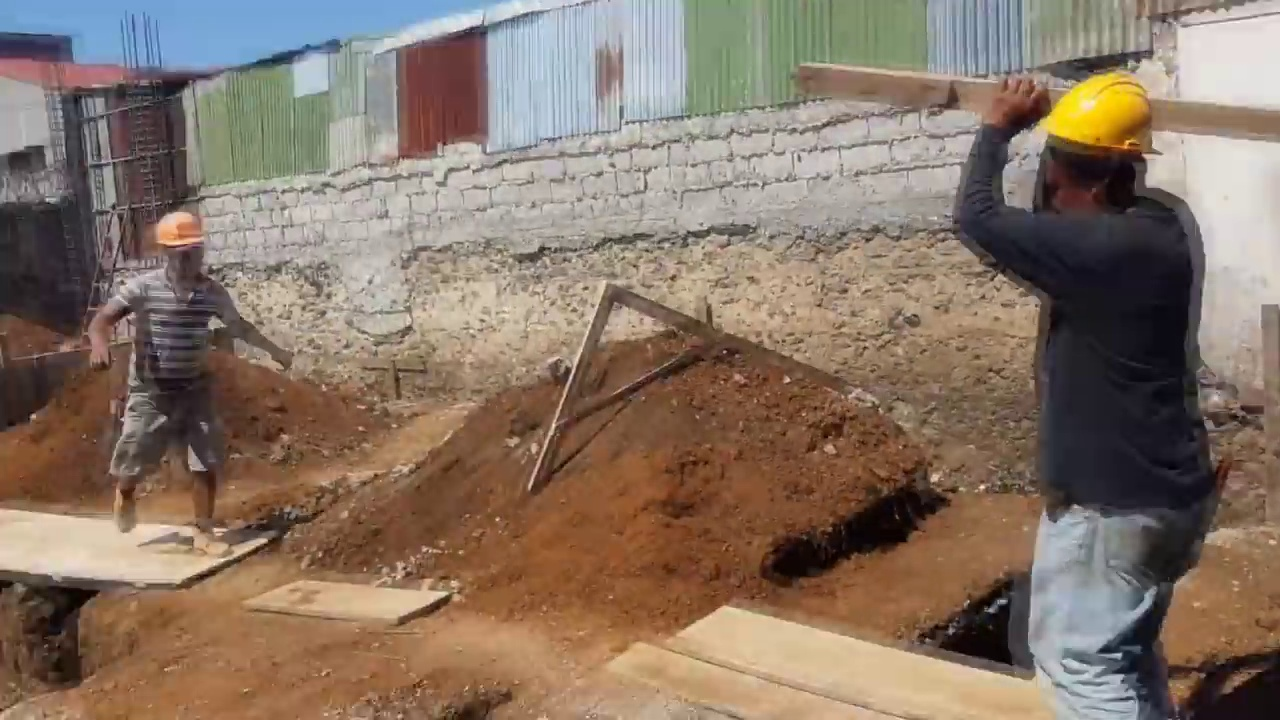helmet: (1045, 58, 1161, 166), (152, 212, 207, 252)
helmet-on: (1045, 64, 1163, 220), (151, 208, 201, 282)
person: (952, 69, 1215, 720), (82, 203, 242, 531)
